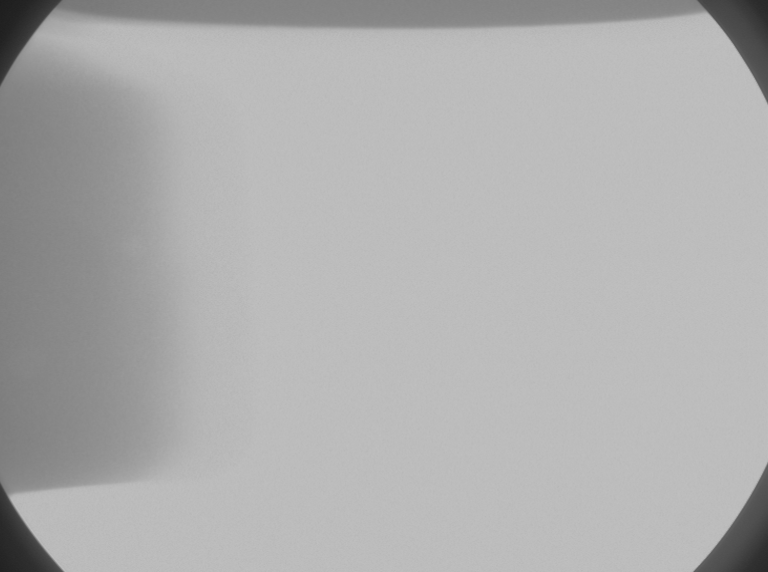defect: (112, 228, 154, 271)
